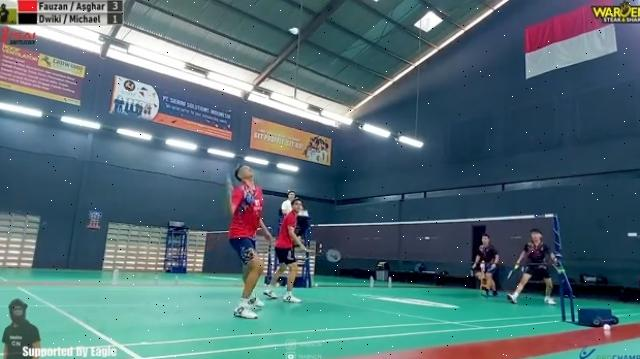Shuttlecock: (287, 24, 301, 38)
